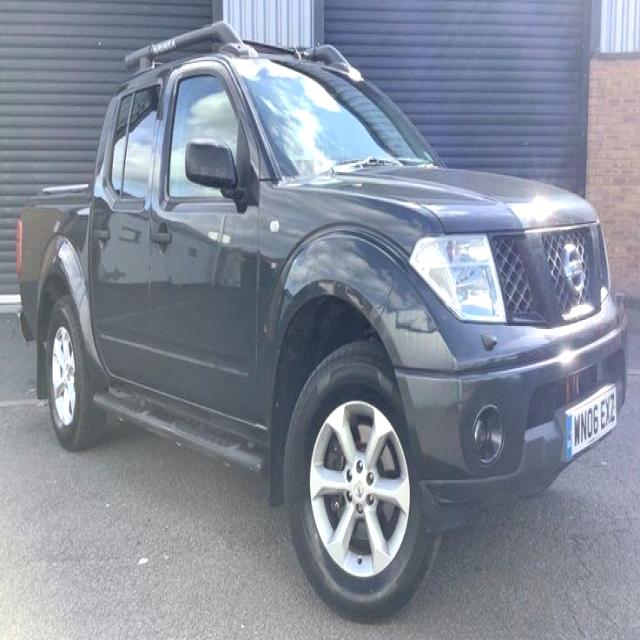CMT: (12, 16, 622, 607)
